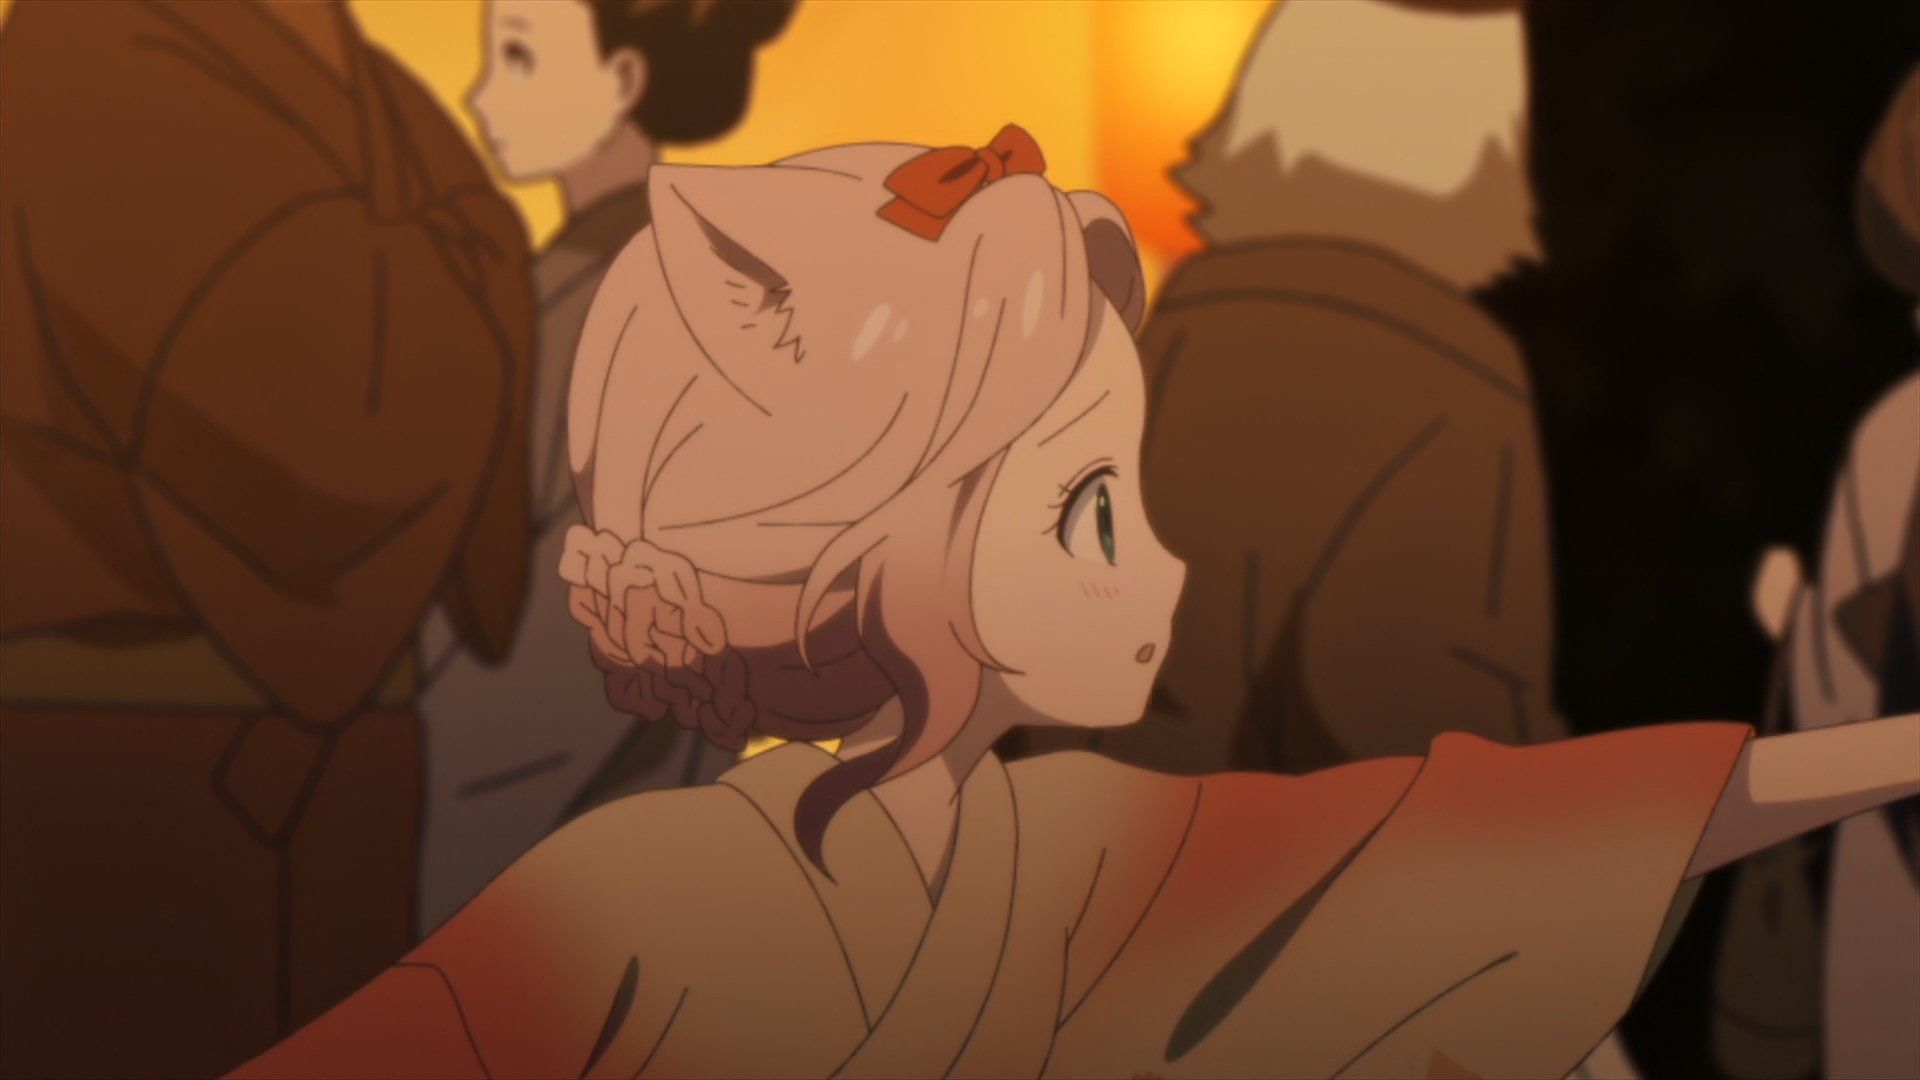其他: (1, 1, 533, 1080), (1025, 1, 1563, 775), (422, 1, 800, 936), (1750, 69, 1920, 1080)
莲: (220, 123, 1920, 1080)
